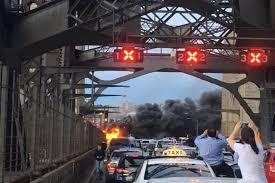fire: (96, 115, 123, 142)
